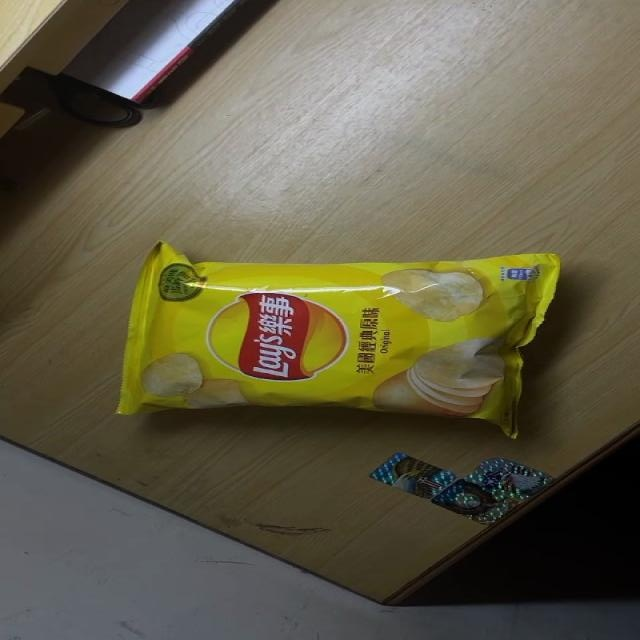Lay-s-original: (117, 241, 558, 438)
